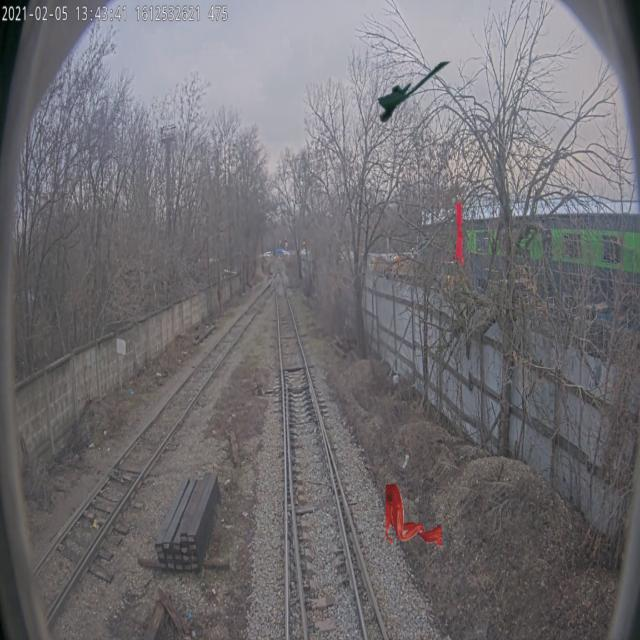floating object: (378, 60, 454, 124), (386, 483, 442, 548), (455, 202, 464, 266)
